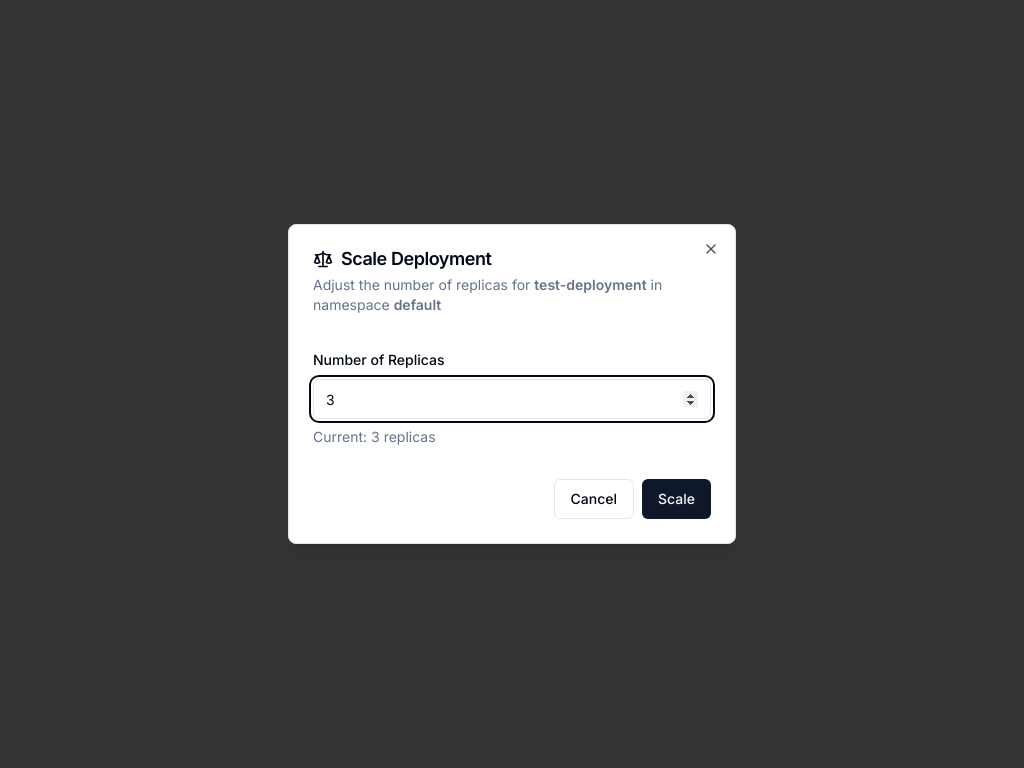
Test: ScaleDeploymentDialog › Validation › should show error for numbers over 100
Step 1. Replace the text in the number field labelled "Number of Replicas" with "101" → (512, 399), box [313,379,711,419]
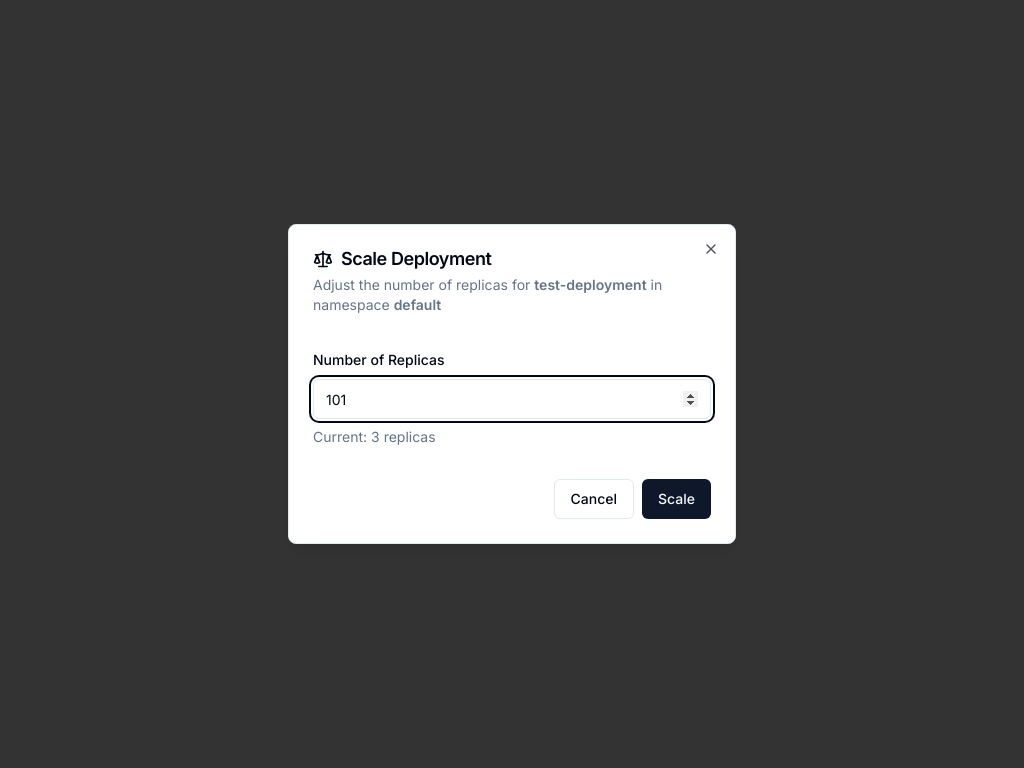
Step 2. Click the button "Scale" → (676, 499), box [642,479,711,519]
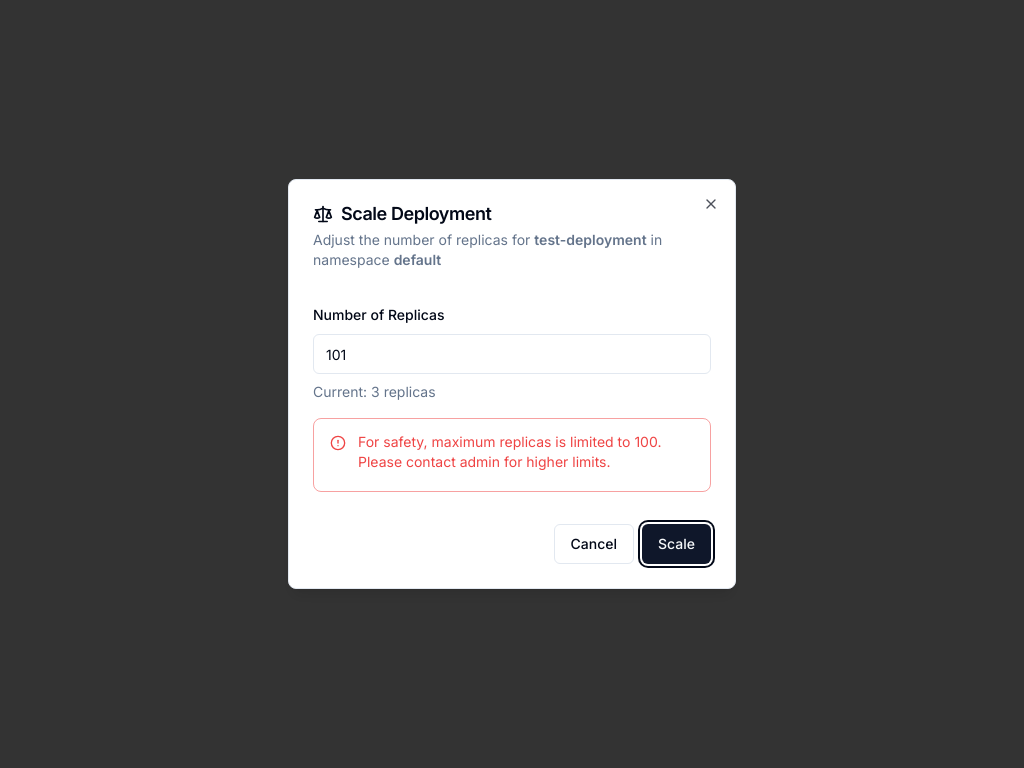
Expected: the text "For safety, maximum replicas is limited to 100. Please contact admin for higher limits." is shown, [358,433,661,470]
